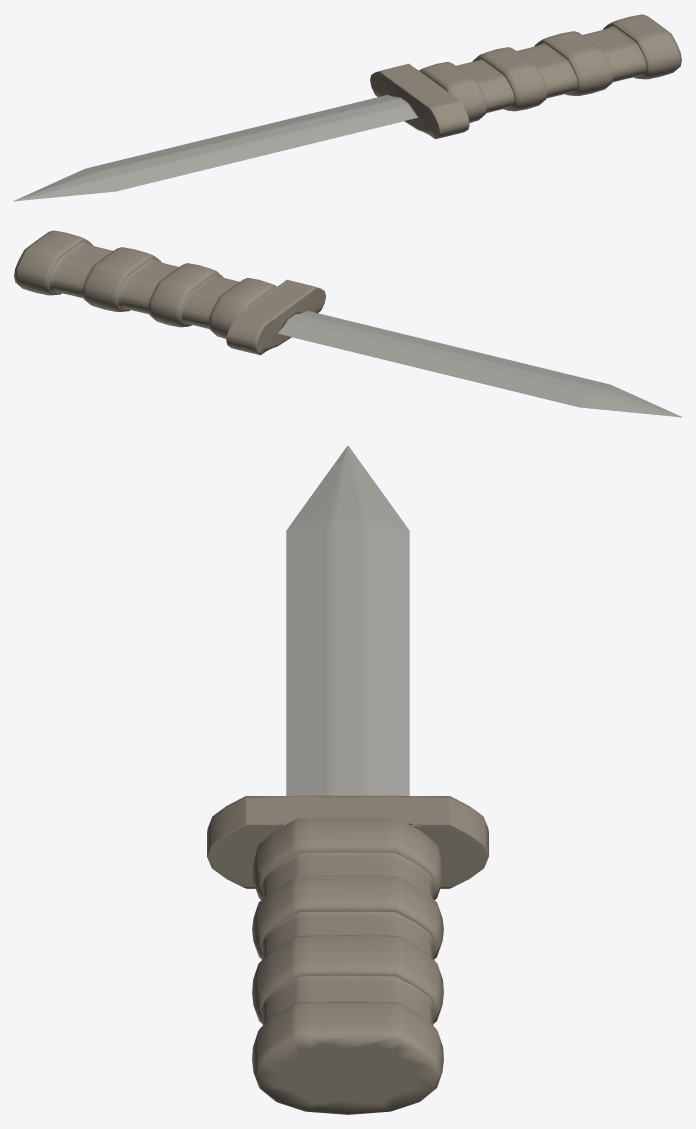
The model's file is Knife.fbx.
The picture shows the model from 3 angles, top to bottom: view 1: azimuth 30°, elevation 25°; view 2: azimuth 150°, elevation 25°; view 3: azimuth 270°, elevation 25°; orthographic projection. The views are drawn at different scales.
Parts seen in each view (by area): view 1: polySurface5; view 2: polySurface5; view 3: polySurface5.
Boxes of the visible parts, x1,y1,x2,y2 form: polySurface5: [14, 14, 681, 201]; polySurface5: [14, 230, 681, 417]; polySurface5: [207, 446, 488, 1114].
Bounding box in the file's own units: 8.43 × 0.554 × 1.6.
